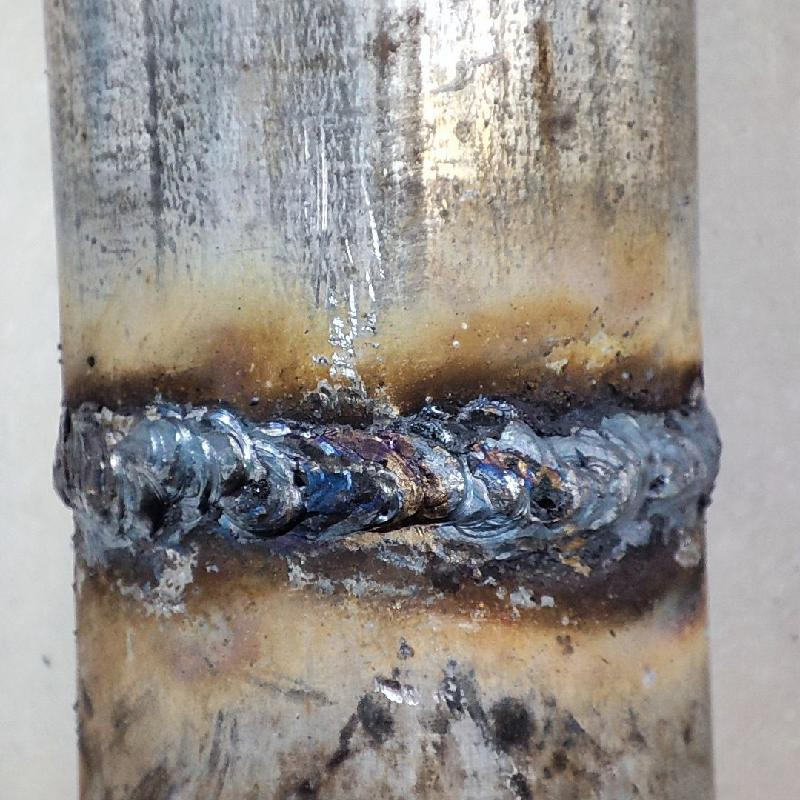Surface_pores: (519, 466, 571, 525), (275, 455, 321, 499)
good: (53, 395, 723, 545)
